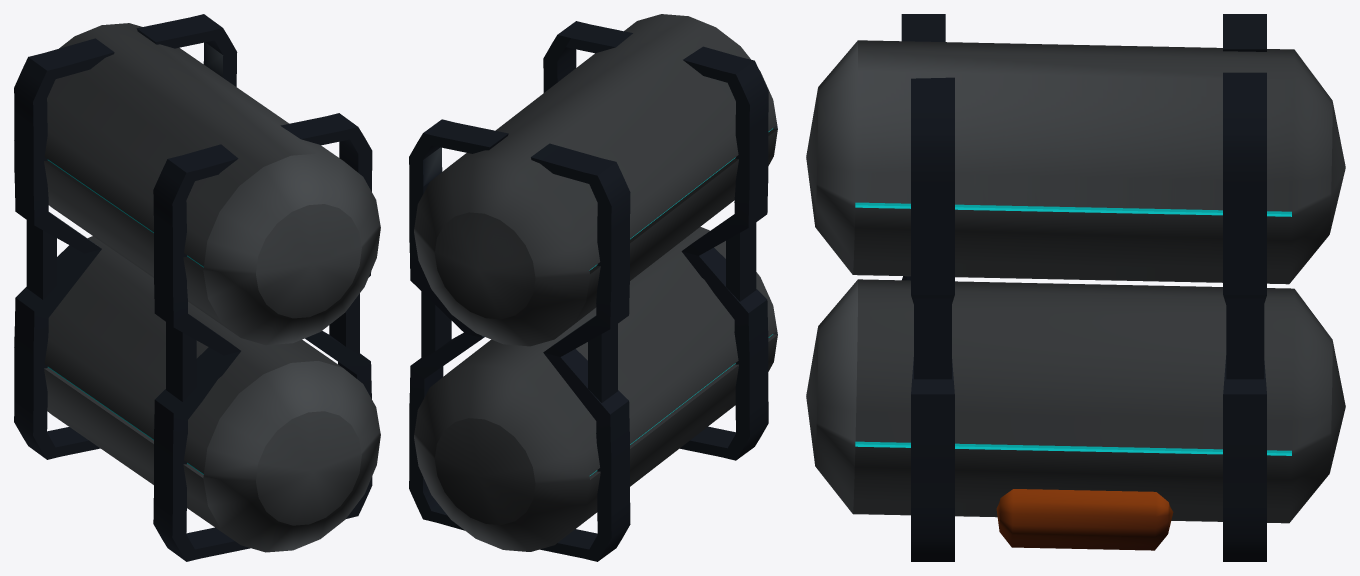
File: Prop_Capsules.fbx
3 renders of one model, left to right at view 1: azimuth 30°, elevation 25°; view 2: azimuth 150°, elevation 25°; view 3: azimuth 270°, elevation 25°, orthographic. The views are drawn at different scales.
Parts seen in each view (by area): view 1: stacked_cylinders3; view 2: stacked_cylinders3; view 3: stacked_cylinders3.
Boxes of the visible parts, x1,y1,x2,y2 form: stacked_cylinders3: (14,14,380,561); stacked_cylinders3: (409,14,777,561); stacked_cylinders3: (806,14,1345,561).
Bounding box in the file's own units: 1.25 × 2.36 × 2.49.
